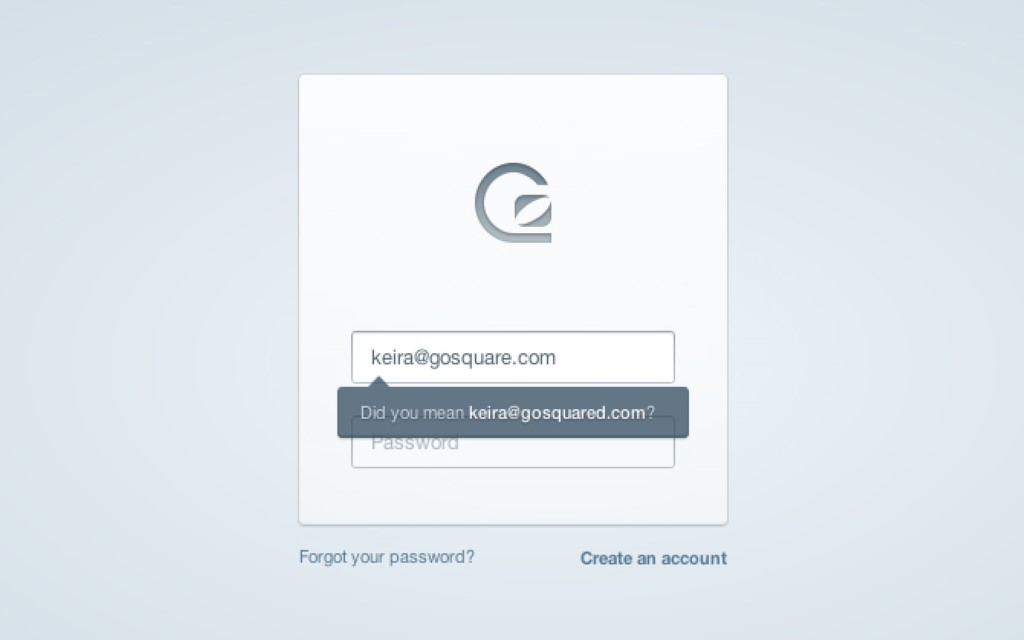textbox: (352, 332, 673, 384)
url: (298, 544, 474, 567)
